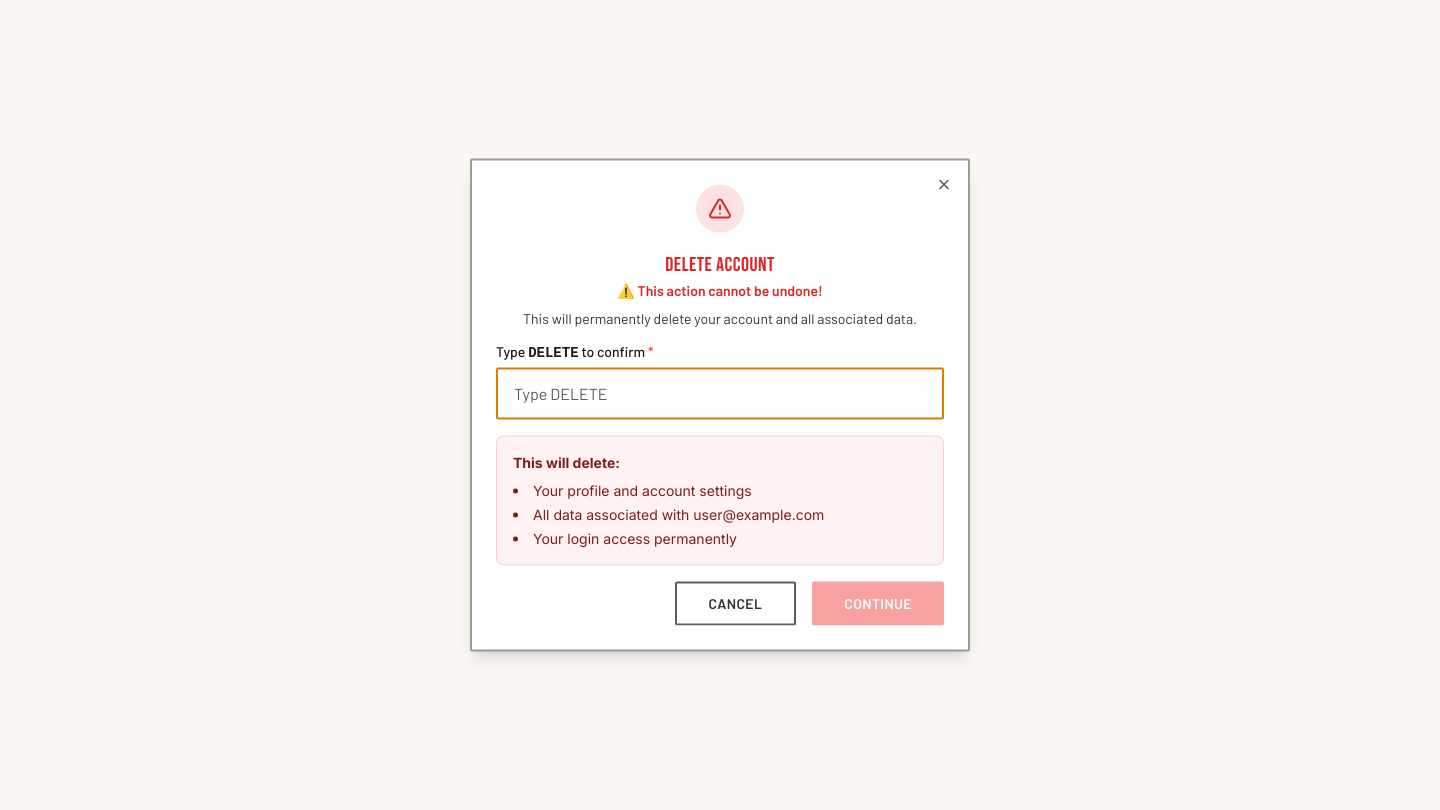
DeleteAccountModal › Two-Step Confirmation Flow › should show password field after clicking Continue
In the field labelled "Type DELETE to confirm *": (720, 394) x1=496 y1=368 x2=944 y2=420, type "DELETE"
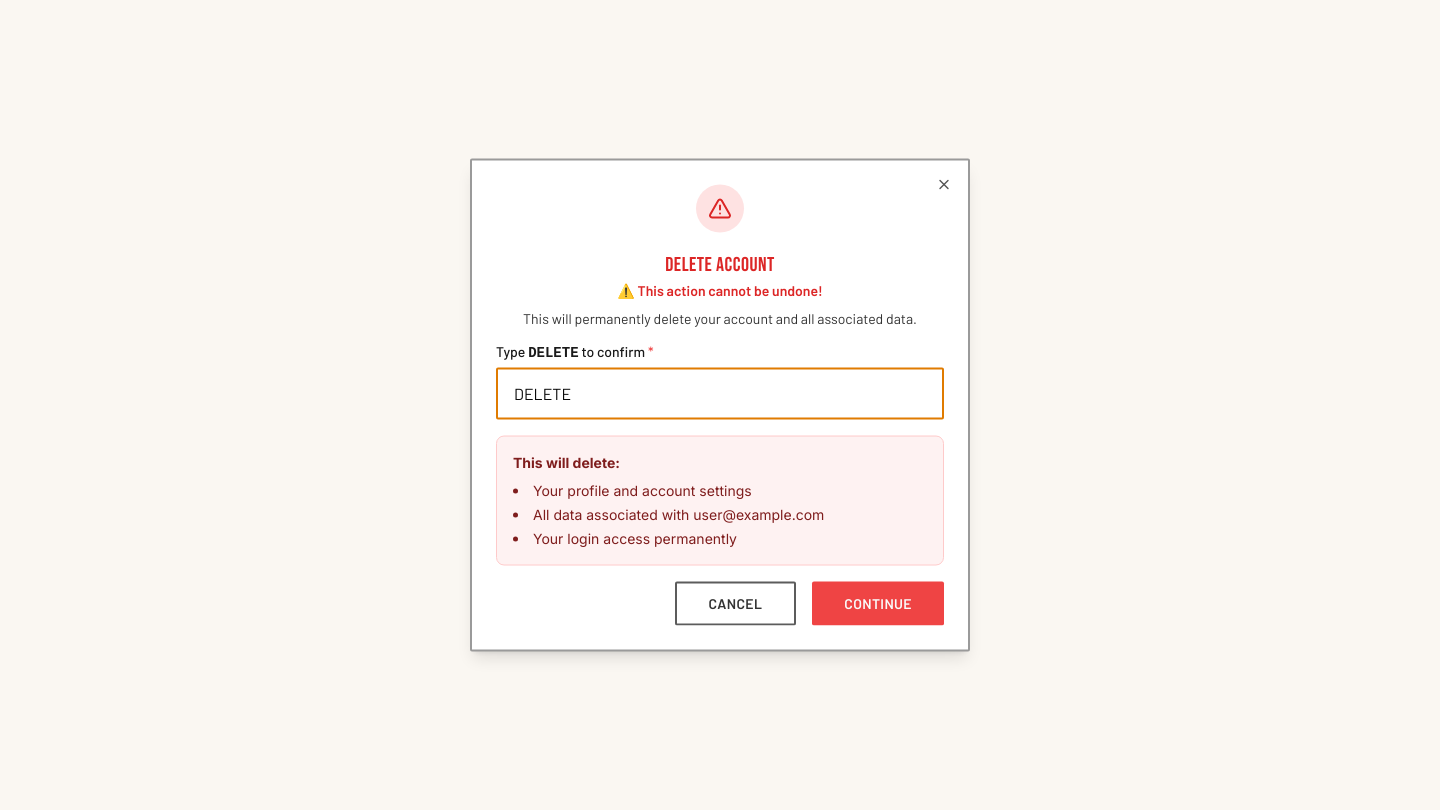
Click the button "Continue": click(878, 604) x1=812 y1=582 x2=944 y2=626
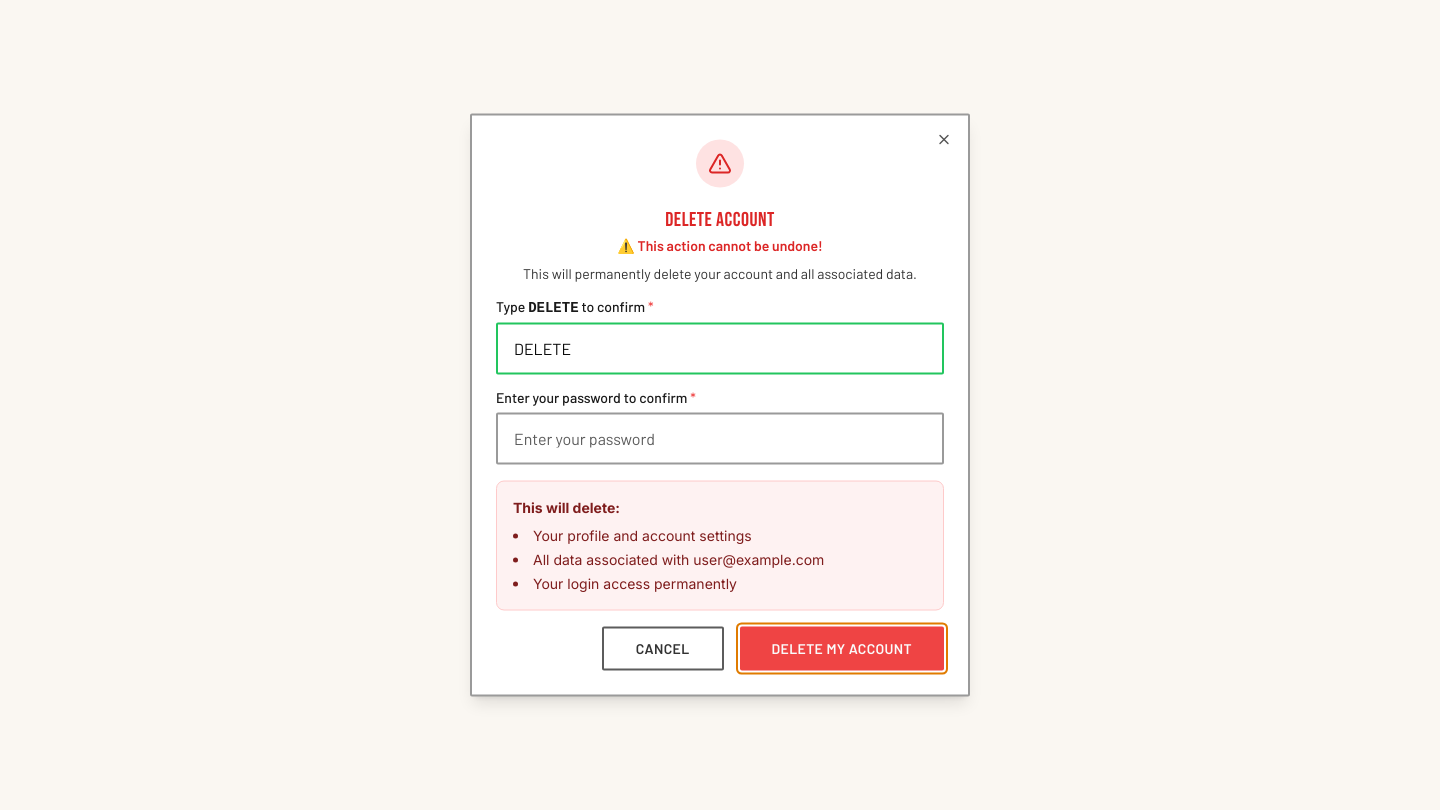
Expected: the password field labelled "Enter your password to confirm *" is shown, x1=496 y1=412 x2=944 y2=464
Expected: the button "Delete My Account" is shown, x1=740 y1=626 x2=944 y2=670
